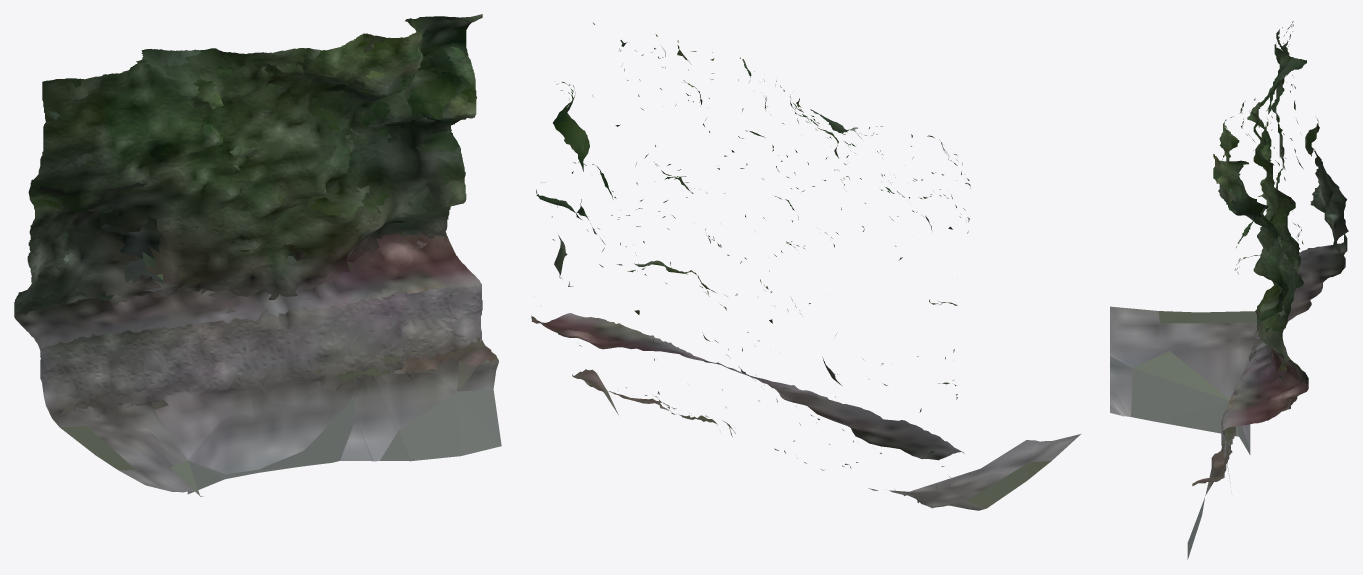
3 renders of one model, left to right at view 1: azimuth 30°, elevation 25°; view 2: azimuth 150°, elevation 25°; view 3: azimuth 270°, elevation 25°, orthographic. The views are drawn at different scales.
Bounding box in the file's own units: 0.4915 × 0.4915 × 0.2853.
Materials: 1 (1 with a texture image).
